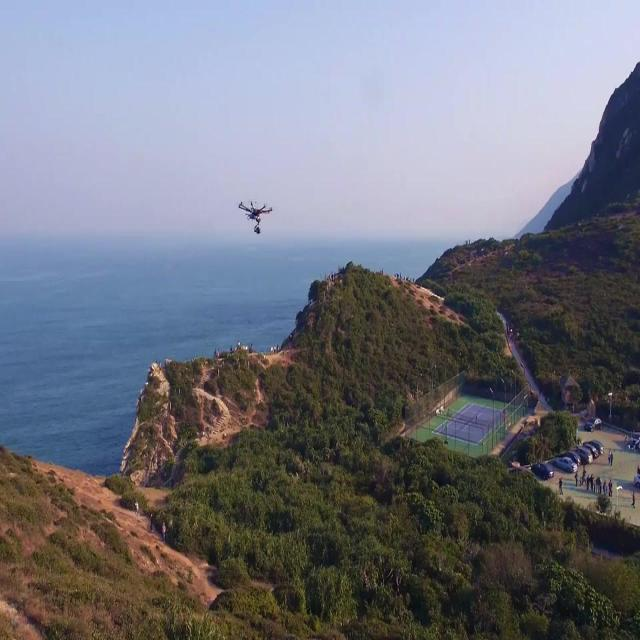UAV: (238, 199, 272, 234)
